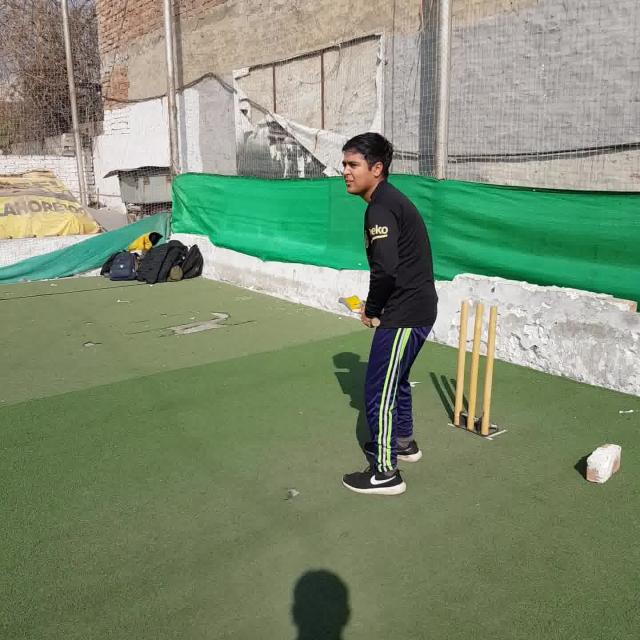bat: (336, 294, 381, 326)
